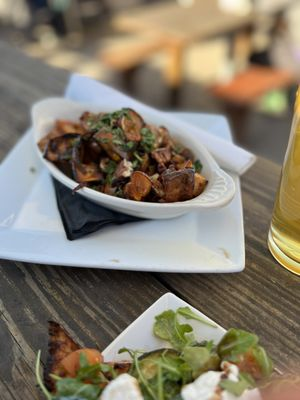sushi: (36, 94, 237, 225)
